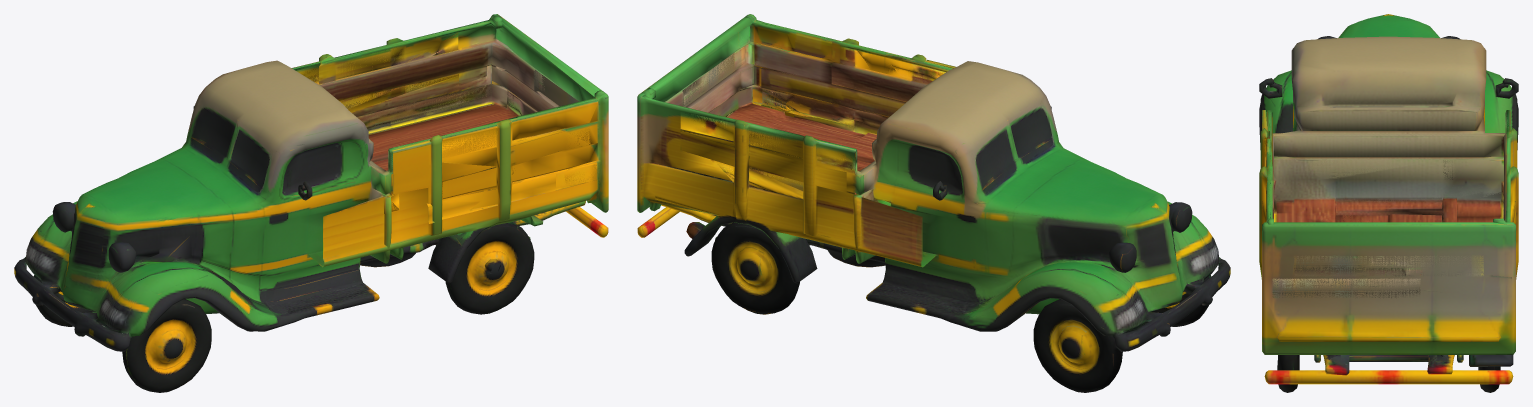
Rendered from Meshy_AI_goods_truck_to_pickup_0221040555_texture.glb.
The picture shows the model from 3 angles, left to right: view 1: azimuth 30°, elevation 25°; view 2: azimuth 150°, elevation 25°; view 3: azimuth 270°, elevation 25°; orthographic projection. The views are drawn at different scales.
Bounding box in the file's own units: 1.9 × 0.8141 × 0.7554.
Materials: 1 (1 with a texture image).
